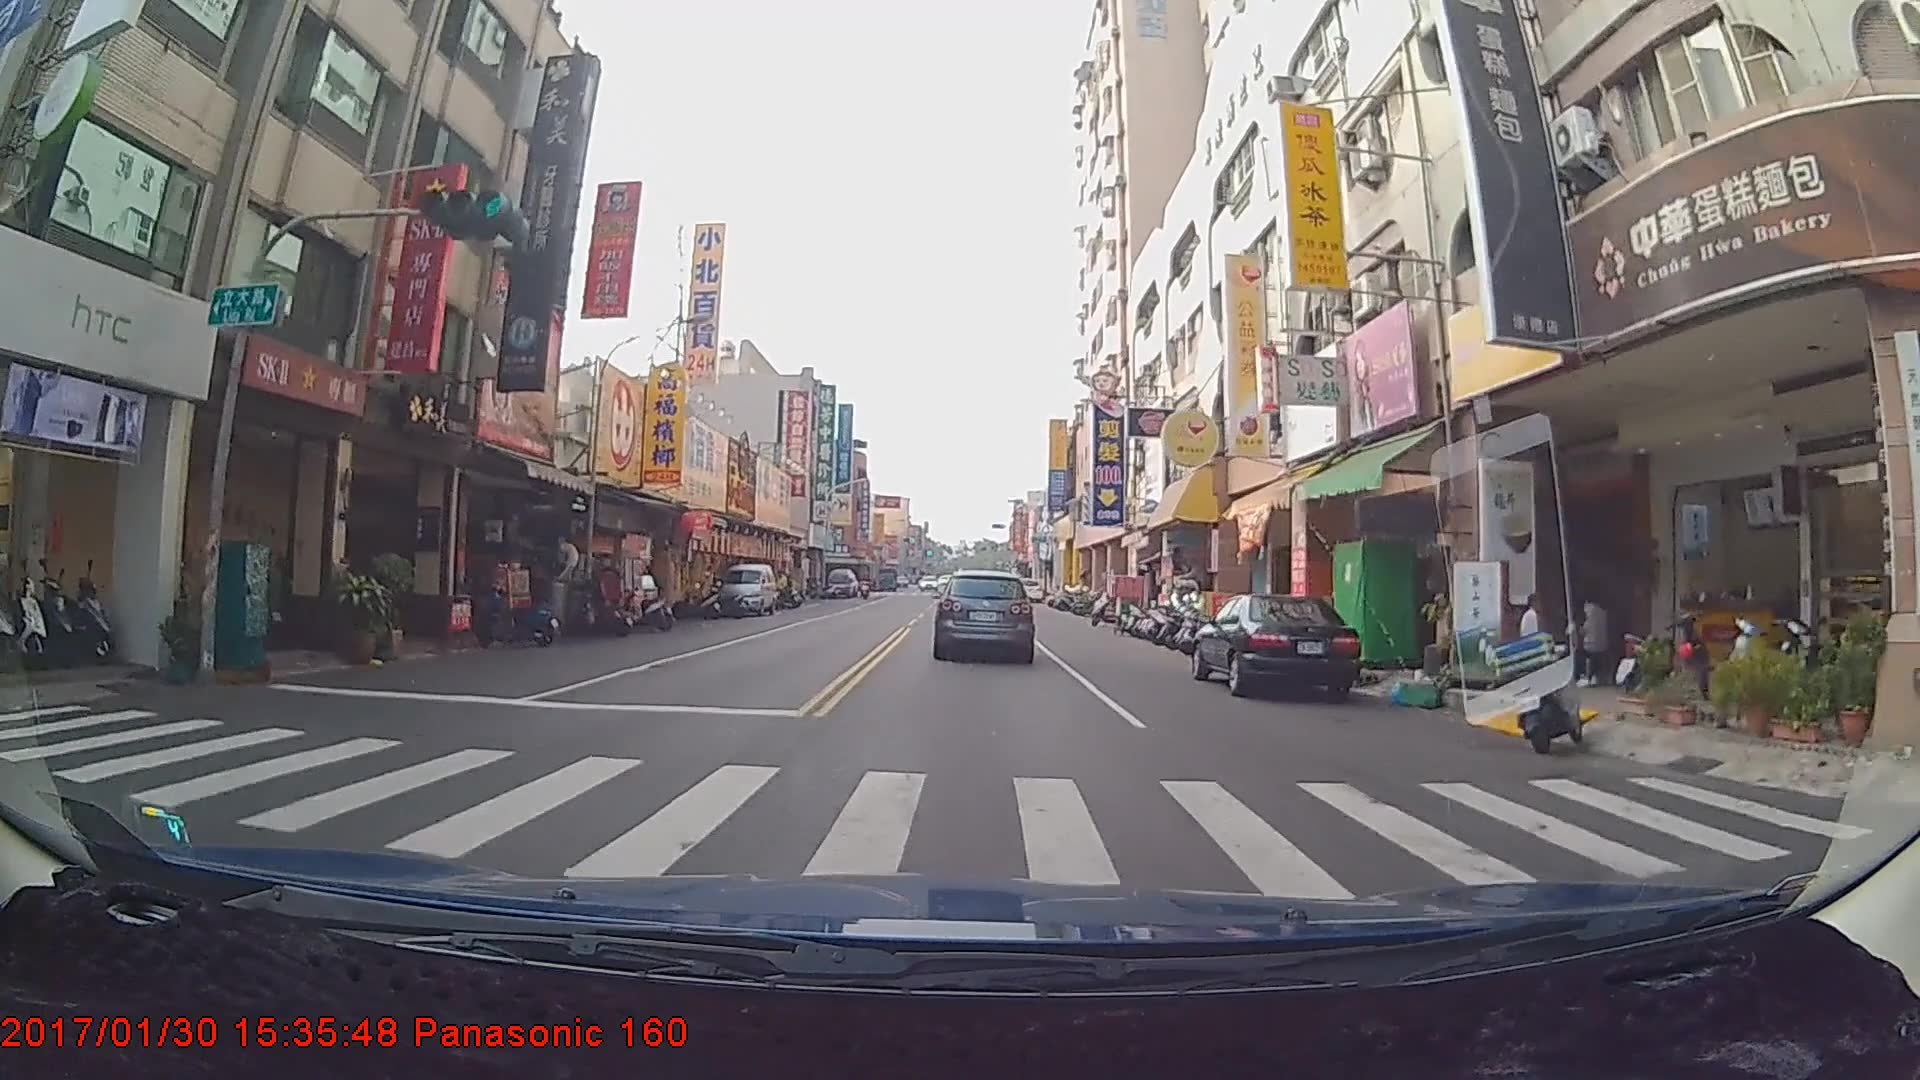pedestrian: (1569, 587, 1610, 688), (1516, 588, 1554, 684)
vehicle: (1195, 589, 1360, 698), (934, 568, 1033, 662), (719, 561, 775, 616), (825, 559, 859, 591), (1012, 579, 1041, 604)
